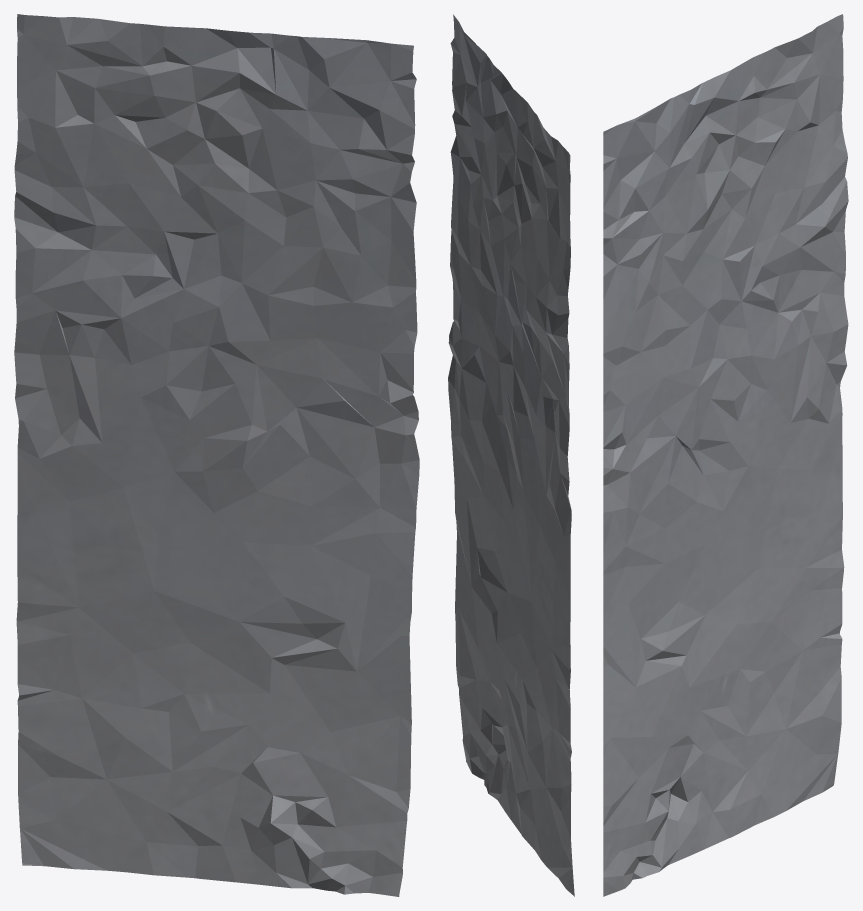
3 views of the same model, side by side, from view 1: azimuth 30°, elevation 25°; view 2: azimuth 150°, elevation 25°; view 3: azimuth 270°, elevation 25° (orthographic). The views are drawn at different scales.
Size of the model in its own units: 0.56 by 1.67 by 0.4824.
Materials: 1 (1 with a texture image).
